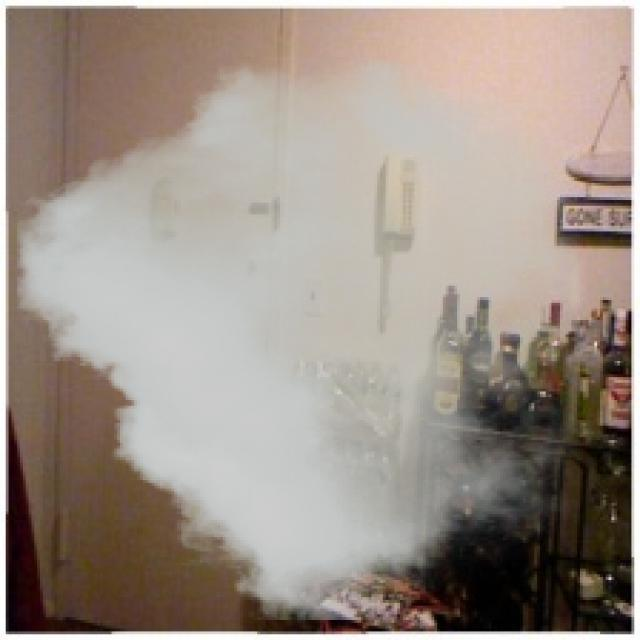Smoke: (17, 57, 580, 620)
